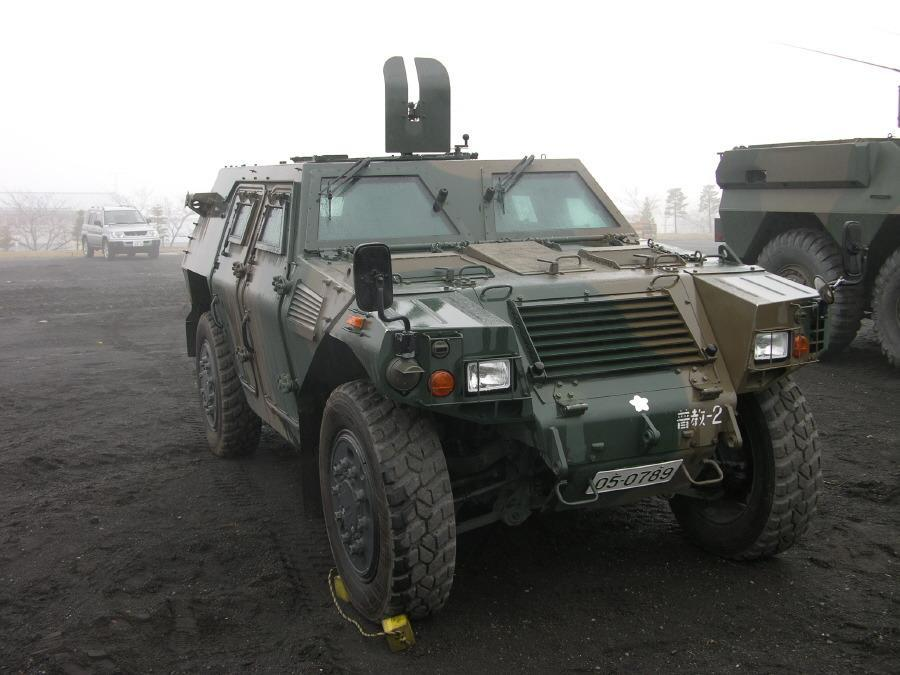MIL_IFV: (176, 57, 842, 623)
